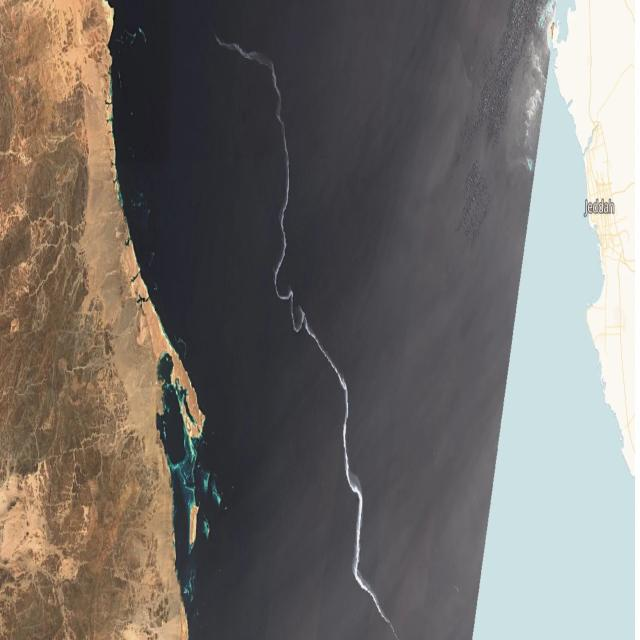oil spill: (216, 35, 397, 639)
